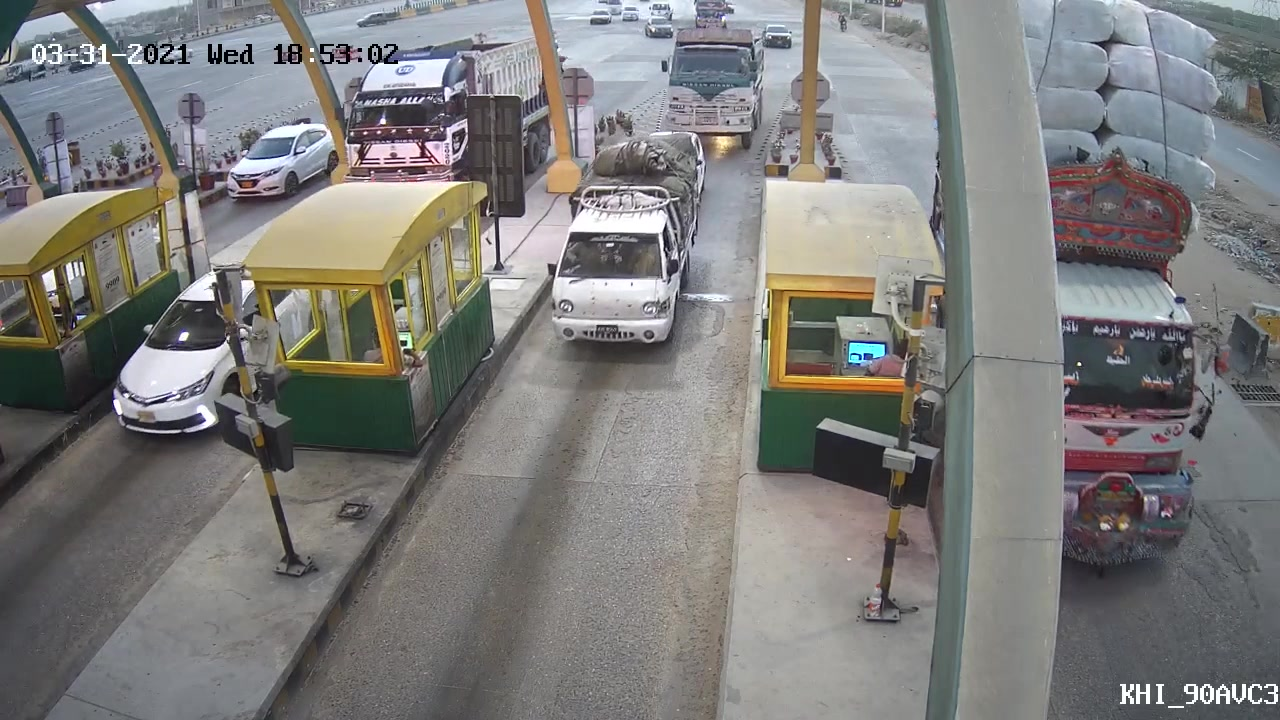F2: (543, 144, 715, 356)
